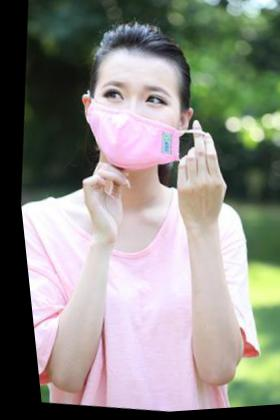WRONG: (77, 73, 186, 179)
